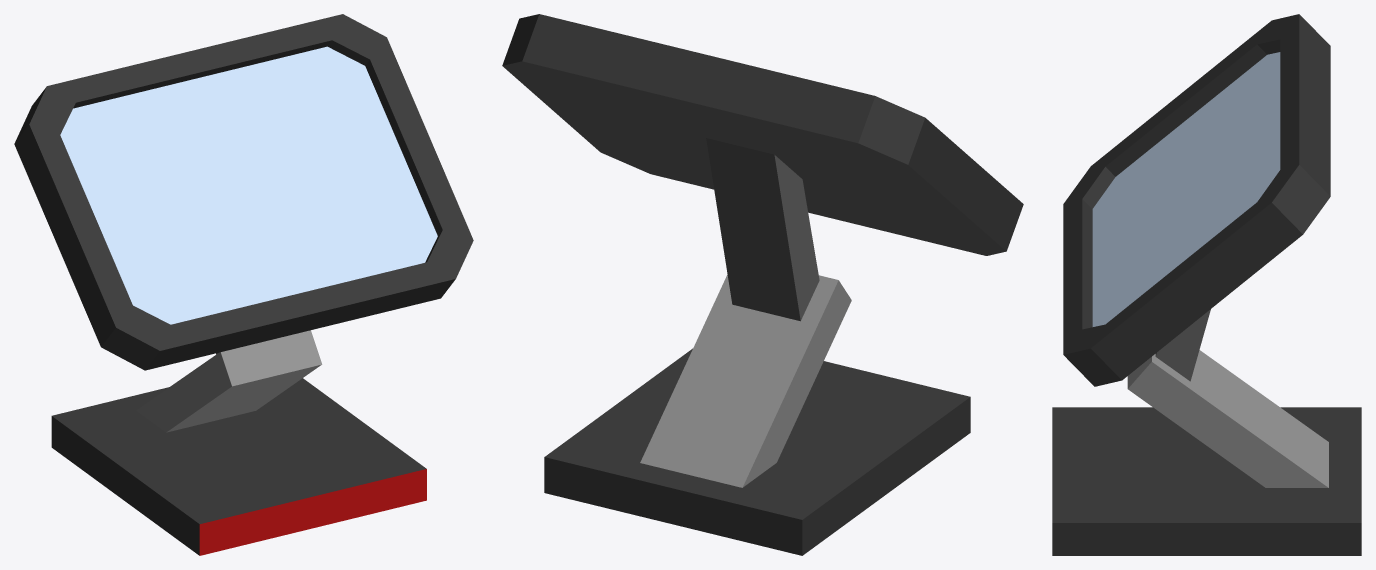
Rendered from Cavern_Light_Floor.fbx.
3 renders of one model, left to right at view 1: azimuth 30°, elevation 25°; view 2: azimuth 150°, elevation 25°; view 3: azimuth 270°, elevation 25°, orthographic. The views are drawn at different scales.
Parts seen in each view (by area): view 1: Cavern_Light_Floor; view 2: Cavern_Light_Floor; view 3: Cavern_Light_Floor.
Part boxes in pixels (x1,y1,x2,y2): Cavern_Light_Floor: [14, 14, 473, 555]; Cavern_Light_Floor: [502, 14, 1023, 555]; Cavern_Light_Floor: [1052, 14, 1361, 555].
Bounding box in the file's own units: 57.74 × 60.41 × 41.43.
